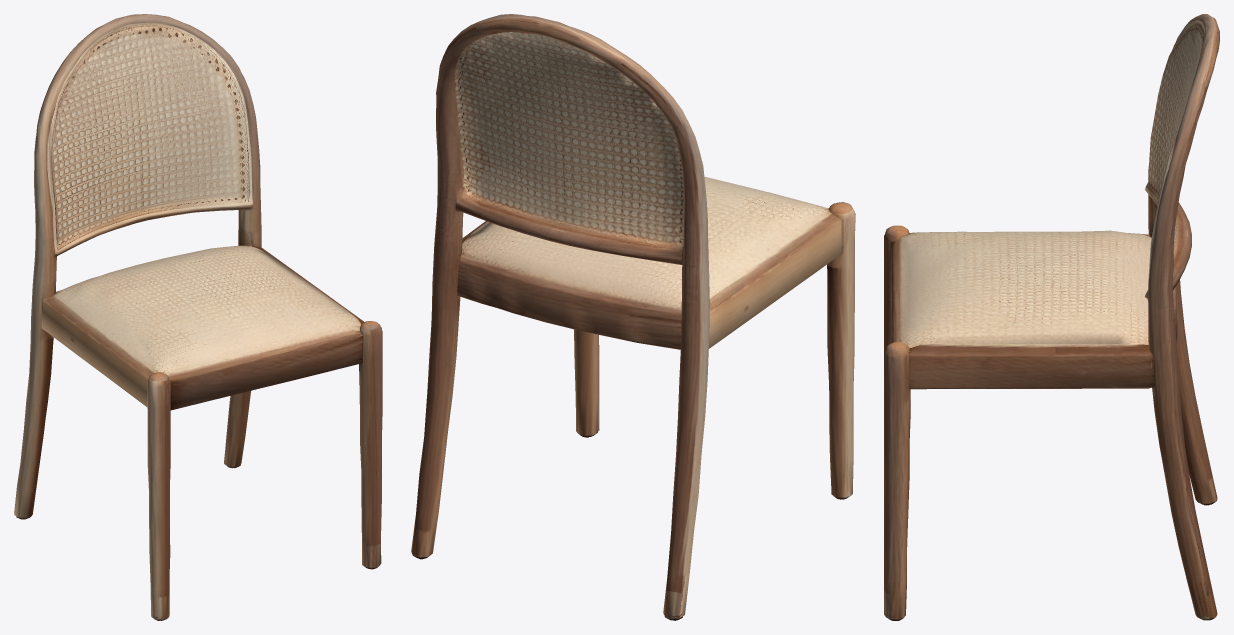
The model's file is Modern_Weaver_Chair_0404022030_texture.glb.
The picture shows the model from 3 angles, left to right: view 1: azimuth 30°, elevation 25°; view 2: azimuth 150°, elevation 25°; view 3: azimuth 270°, elevation 25°; orthographic projection. The views are drawn at different scales.
Parts seen in each view (by area): view 1: Mesh_0.002; view 2: Mesh_0.002; view 3: Mesh_0.002.
Part boxes in pixels (x1,y1,x2,y2): Mesh_0.002: (14, 14, 382, 620); Mesh_0.002: (411, 14, 855, 620); Mesh_0.002: (884, 14, 1219, 620).
Bounding box in the file's own units: 0.4156 × 0.8128 × 0.4623.
1 material, 1 textured.
